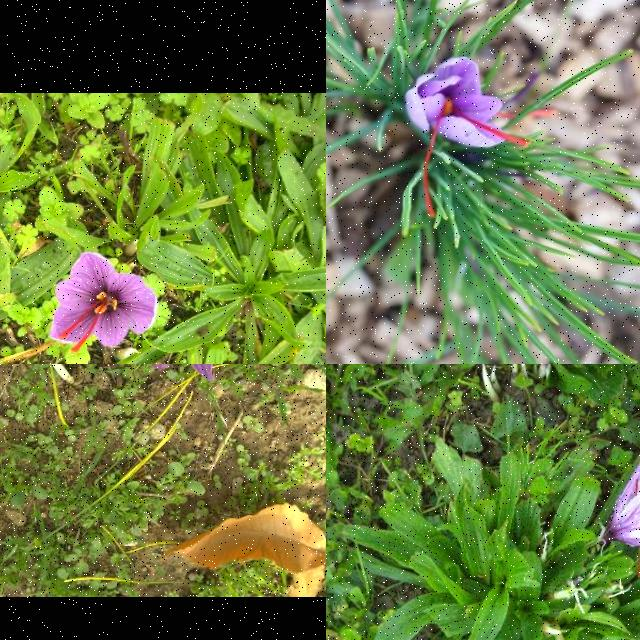flower: (408, 59, 558, 218), (48, 252, 158, 354), (605, 457, 640, 580)
